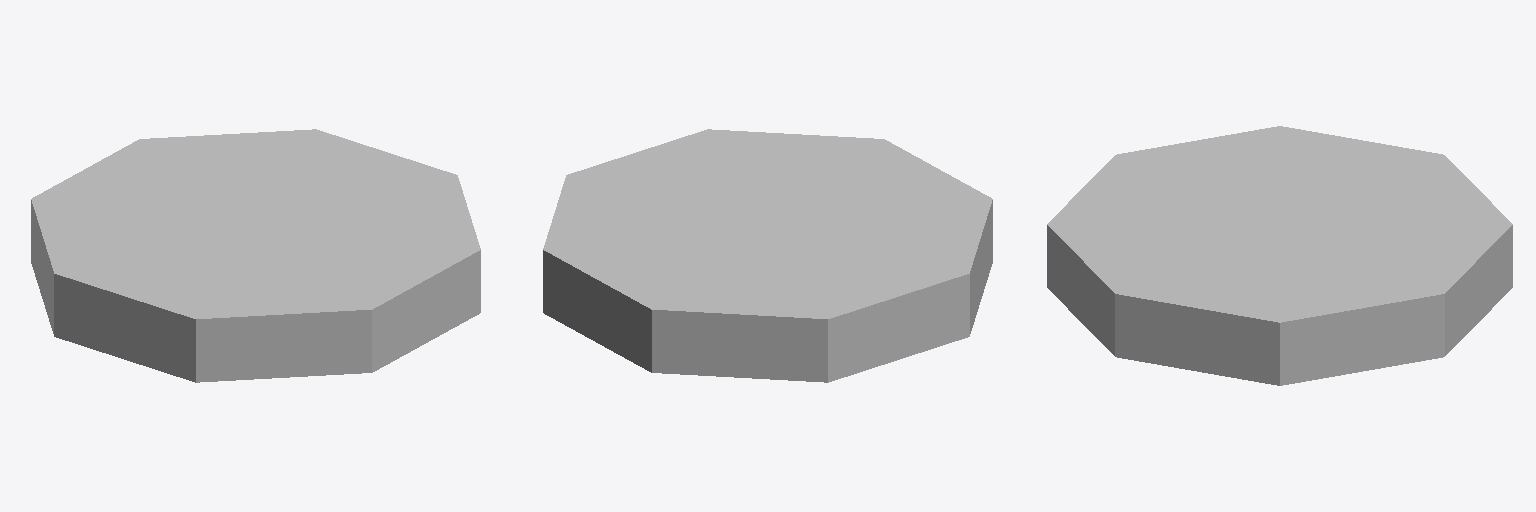
The model's file is AT disp.obj.
The picture shows the model from 3 angles: view 1: azimuth 30°, elevation 25°; view 2: azimuth 150°, elevation 25°; view 3: azimuth 270°, elevation 25°; orthographic projection.
Visible parts, largest first — view 1: Cylinder; view 2: Cylinder; view 3: Cylinder.
Boxes of the visible parts, <box> form: Cylinder: <box>31,129,480,382</box>; Cylinder: <box>543,129,992,382</box>; Cylinder: <box>1047,126,1512,385</box>.
Size of the model in its own units: 2 by 0.3 by 2.